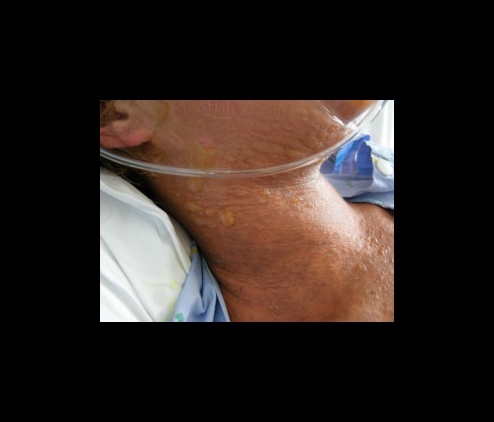SJS-TEN: (157, 114, 371, 247)
